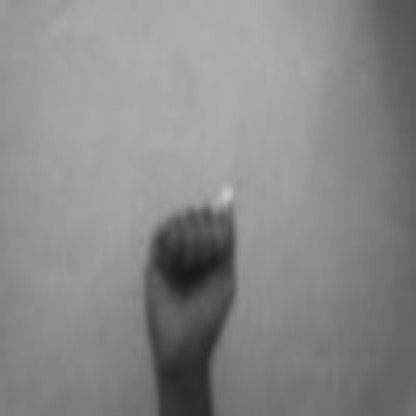a: (138, 184, 246, 364)
